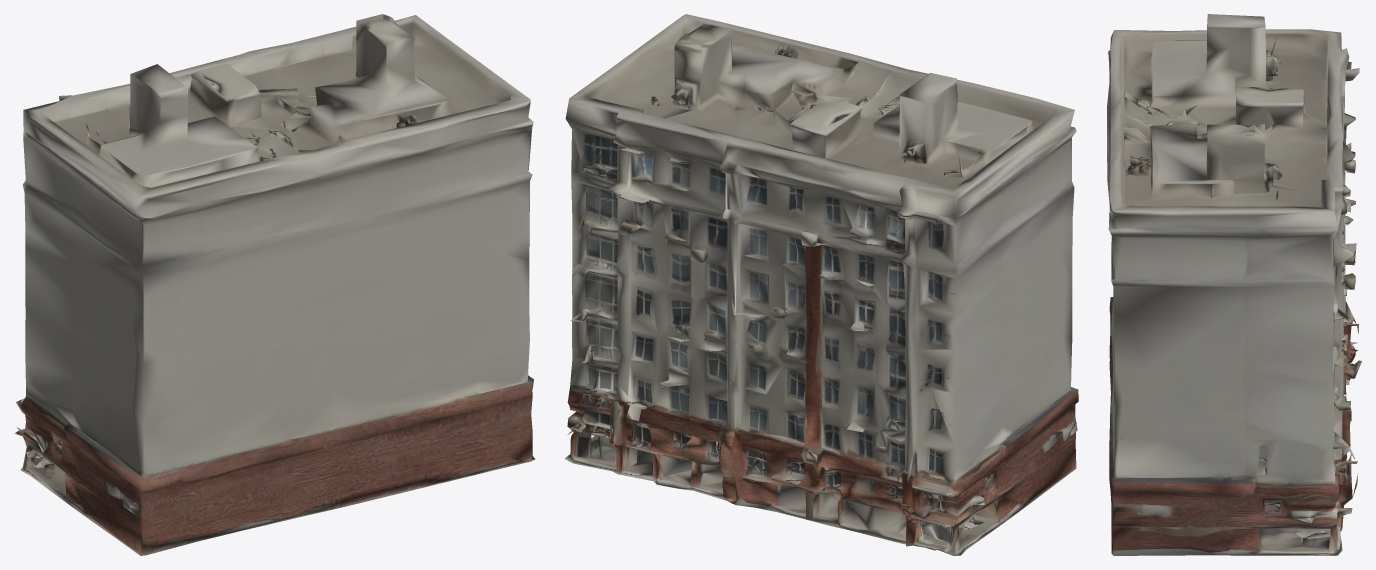
Rendered from residential-block.glb.
3 renders of one model, left to right at view 1: azimuth 30°, elevation 25°; view 2: azimuth 150°, elevation 25°; view 3: azimuth 270°, elevation 25°, orthographic. The views are drawn at different scales.
Visible parts, largest first — view 1: tripo_node_1ab6341e-e5bb-4881-9ec3-273d9d3edb24; view 2: tripo_node_1ab6341e-e5bb-4881-9ec3-273d9d3edb24; view 3: tripo_node_1ab6341e-e5bb-4881-9ec3-273d9d3edb24.
Boxes of the visible parts, x1,y1,x2,y2 form: tripo_node_1ab6341e-e5bb-4881-9ec3-273d9d3edb24: (14, 14, 535, 555); tripo_node_1ab6341e-e5bb-4881-9ec3-273d9d3edb24: (564, 14, 1078, 555); tripo_node_1ab6341e-e5bb-4881-9ec3-273d9d3edb24: (1107, 14, 1361, 555).
Size of the model in its own units: 27.93 by 26.97 by 15.95.
Materials: 1 (1 with a texture image).
